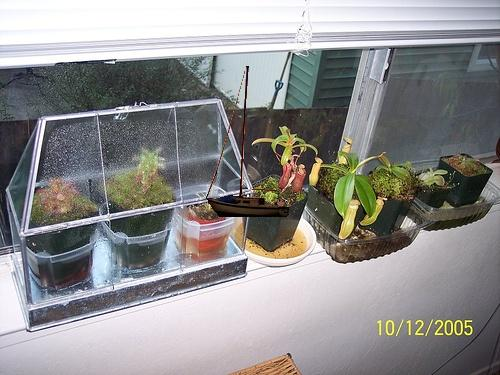tampered: (207, 67, 289, 217)
